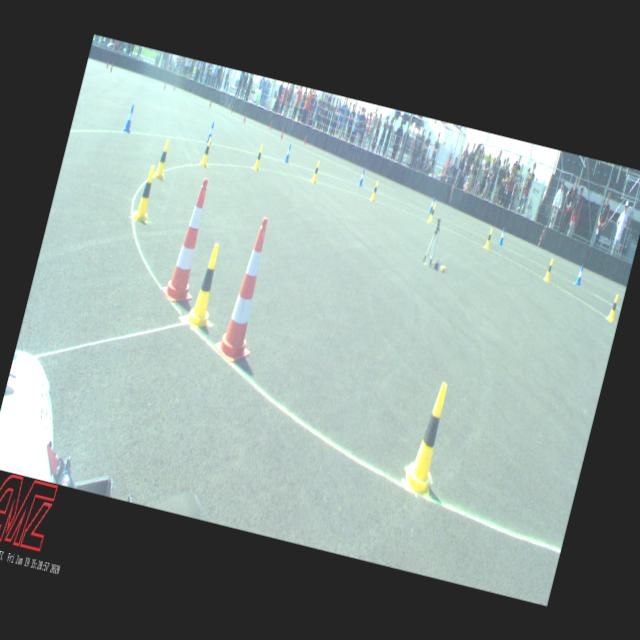blue_cone: (122, 102, 136, 132), (205, 120, 216, 144), (574, 264, 584, 286), (498, 227, 506, 246), (284, 143, 292, 162), (358, 170, 366, 187), (428, 196, 435, 213)
large_orange_cone: (210, 213, 282, 365), (158, 174, 220, 306)
yellow_cone: (401, 378, 456, 496), (186, 240, 228, 330), (132, 164, 160, 222), (154, 138, 172, 179), (199, 136, 214, 167), (606, 293, 620, 322), (252, 144, 264, 170), (543, 258, 554, 282), (310, 160, 321, 182), (484, 228, 494, 250), (370, 180, 379, 201), (427, 202, 436, 223)
